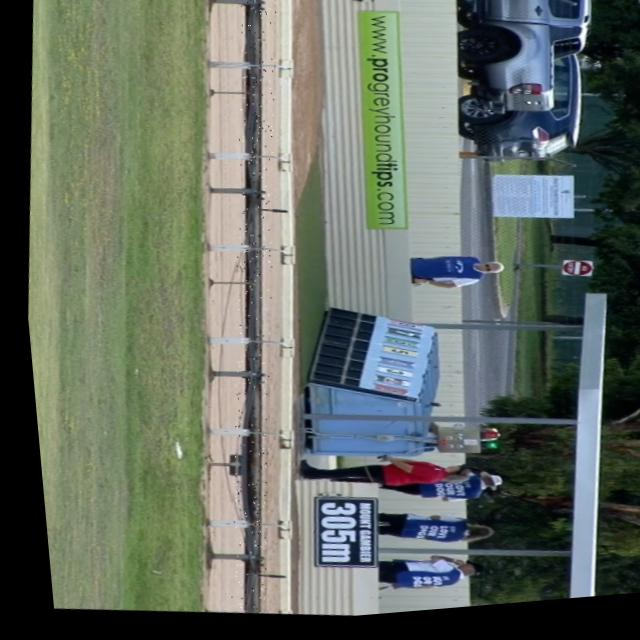rail: (227, 0, 260, 615)
